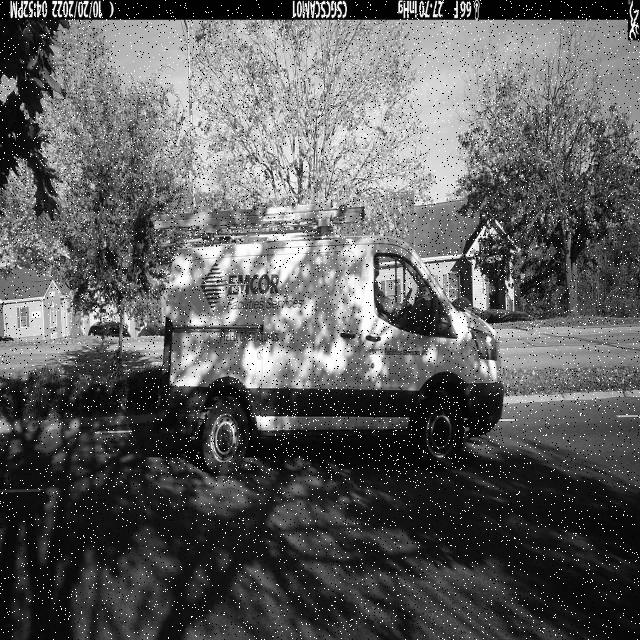Van: (153, 203, 504, 478)
